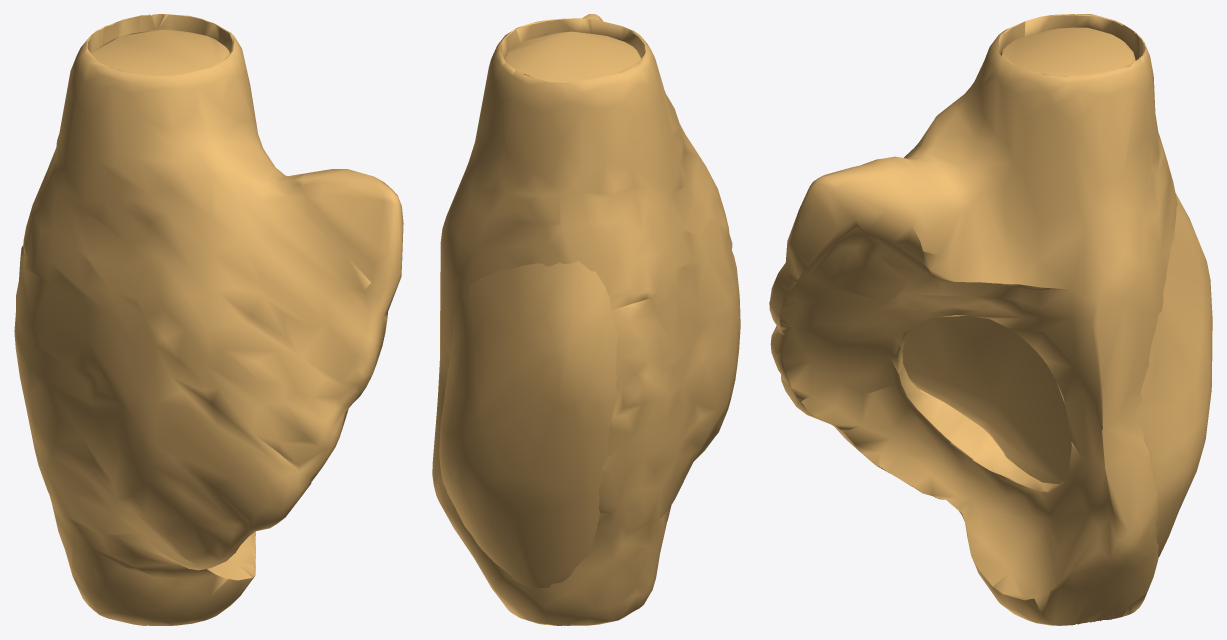
The model's file is atrio-direito.glb.
The picture shows the model from 3 angles, left to right: view 1: azimuth 30°, elevation 25°; view 2: azimuth 150°, elevation 25°; view 3: azimuth 270°, elevation 25°; orthographic projection.
Parts seen in each view (by area): view 1: atrio-direito; view 2: atrio-direito; view 3: atrio-direito.
Part boxes in pixels (bbox=[...]): atrio-direito: bbox=[14, 14, 403, 625]; atrio-direito: bbox=[432, 14, 740, 625]; atrio-direito: bbox=[769, 14, 1212, 625].
Size of the model in its own units: 0.043 by 0.0964 by 0.0701.
